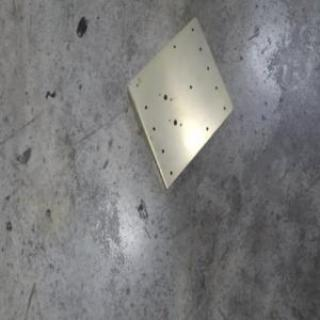MetalSheettrack_idkeyframe: (123, 14, 234, 192)
